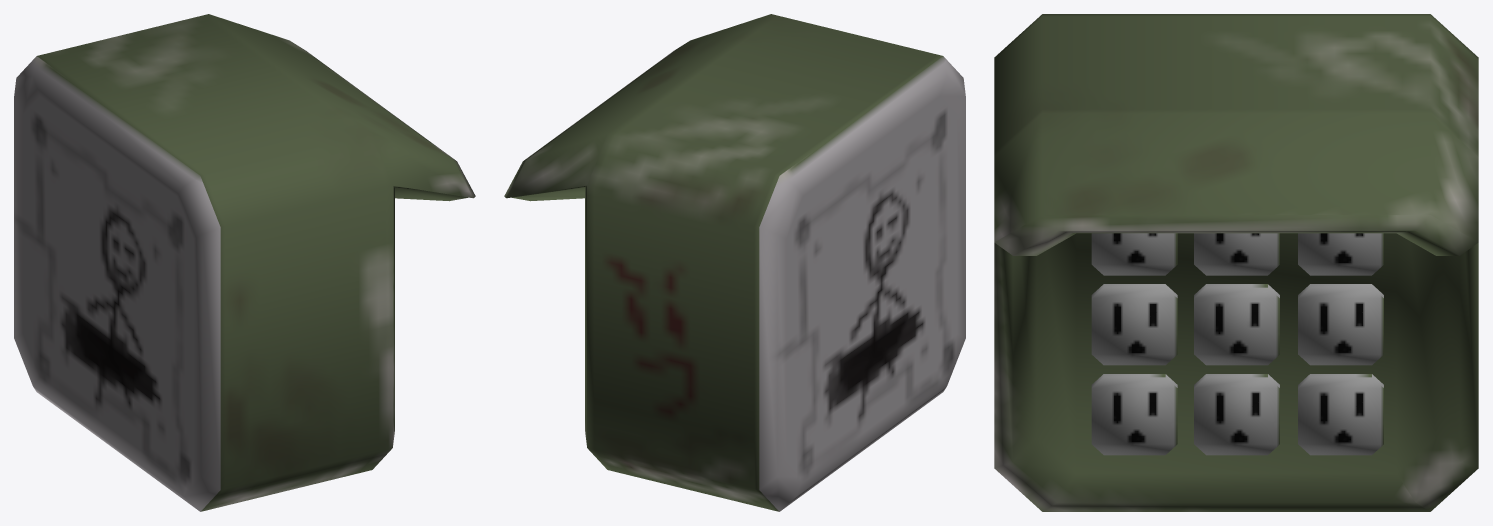
Rendered from outlet_box.glb.
3 renders of one model, left to right at view 1: azimuth 30°, elevation 25°; view 2: azimuth 150°, elevation 25°; view 3: azimuth 270°, elevation 25°, orthographic. The views are drawn at different scales.
Visible parts, largest first — view 1: outlet_box-kine; view 2: outlet_box-kine; view 3: outlet_box-kine.
Part boxes in pixels (x1,y1,x2,y2): outlet_box-kine: (14, 14, 475, 511); outlet_box-kine: (504, 14, 965, 511); outlet_box-kine: (994, 14, 1478, 511).
Size of the model in its own units: 0.2955 by 0.3475 by 0.383.
Materials: 1 (1 with a texture image).
